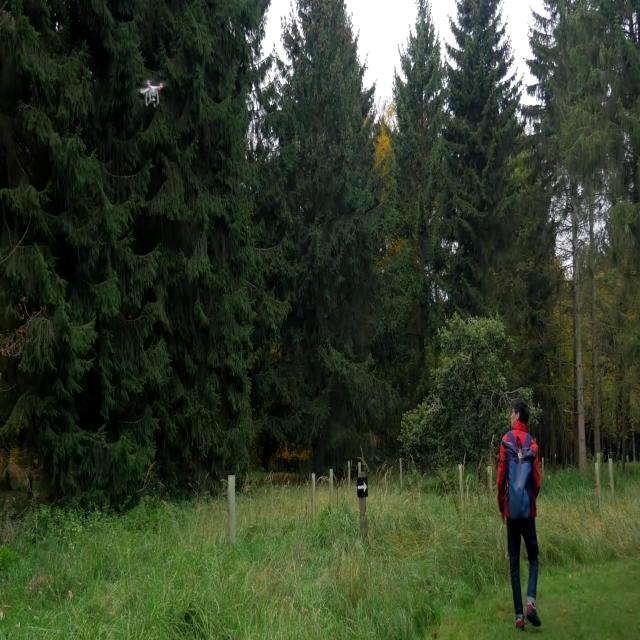drone: (137, 74, 168, 112)
